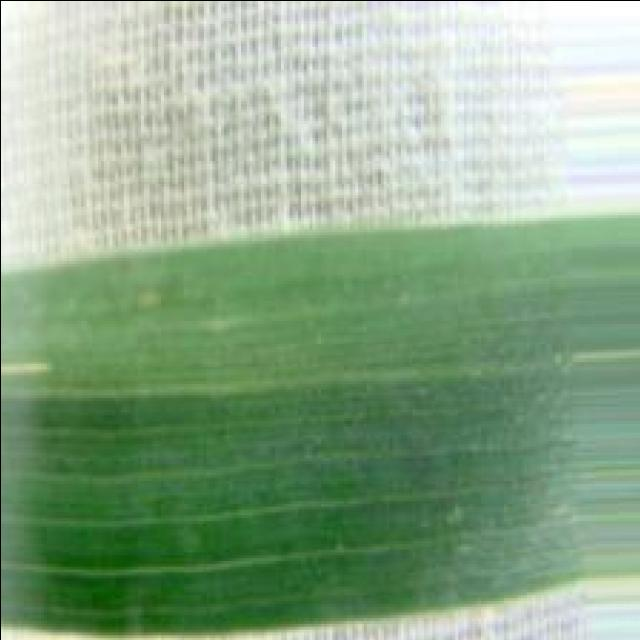Unhealthy: (0, 360, 50, 375)
